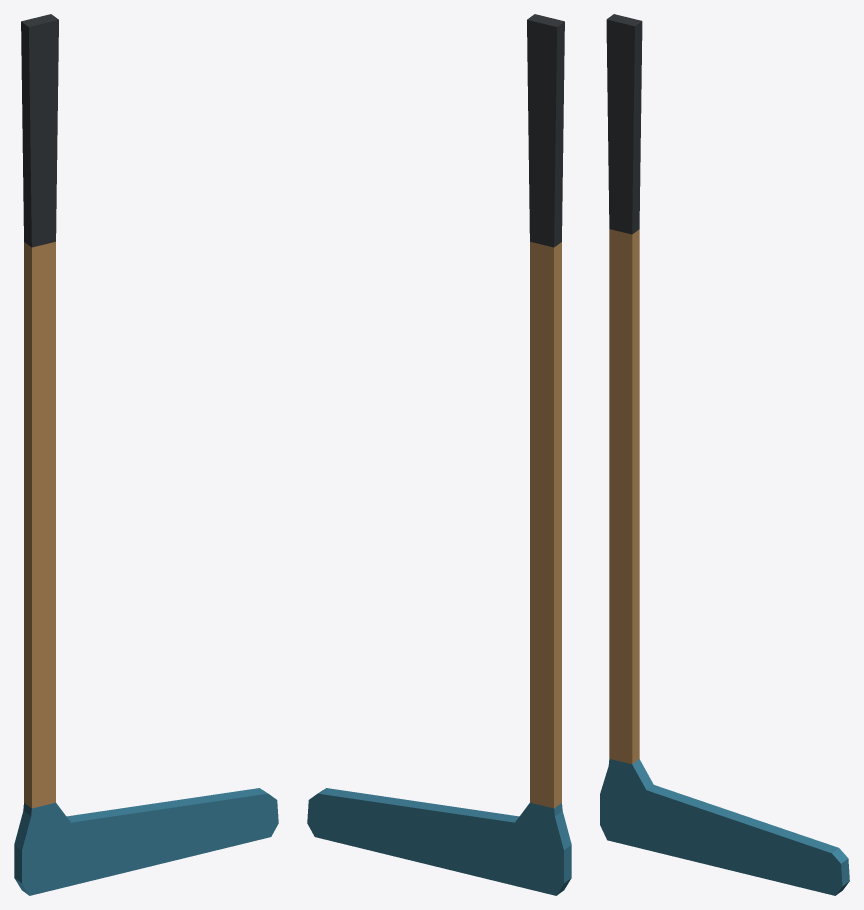
3 renders of one model, left to right at view 1: azimuth 30°, elevation 25°; view 2: azimuth 150°, elevation 25°; view 3: azimuth 330°, elevation 25°, orthographic. The views are drawn at different scales.
Visible parts, largest first — view 1: ContinuousLongShaftHeelAndToeBlade; view 2: ContinuousLongShaftHeelAndToeBlade; view 3: ContinuousLongShaftHeelAndToeBlade.
Boxes of the visible parts, x1,y1,x2,y2 form: ContinuousLongShaftHeelAndToeBlade: (14, 14, 278, 895); ContinuousLongShaftHeelAndToeBlade: (307, 14, 571, 895); ContinuousLongShaftHeelAndToeBlade: (600, 14, 849, 895).
Size of the model in its own units: 0.34 by 1.1 by 0.018.
